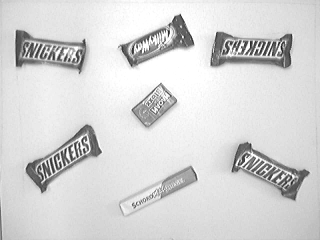Maoam: (130, 82, 180, 130)
Milkyway: (115, 12, 196, 71)
Riegel: (116, 163, 200, 219)
Snickers: (24, 122, 104, 195), (230, 140, 312, 203), (13, 27, 89, 76), (208, 29, 296, 71)
